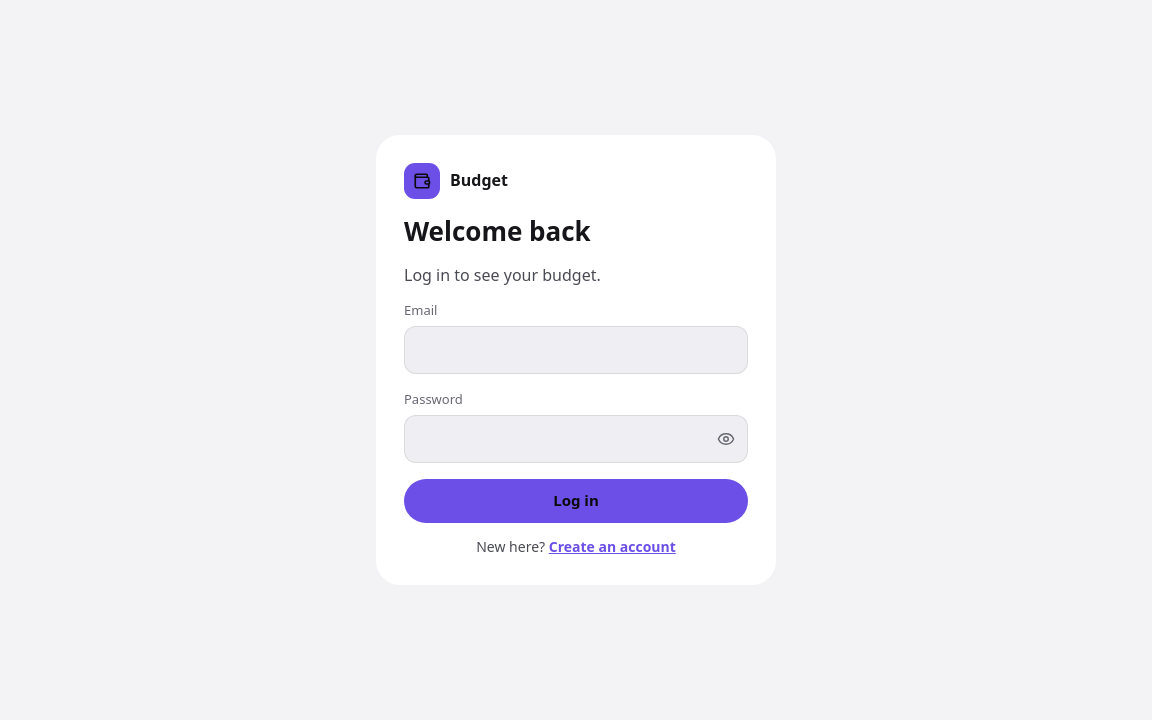
Test: logging in sends the email and password, then opens the page you wanted
The width and height of the screenshot is (1152, 720).
Expected: the heading "Welcome back" is shown, [404, 213, 591, 249]
In the field labelled "Email": (576, 350) [404, 326, 748, 374], type "  alice@example.com "
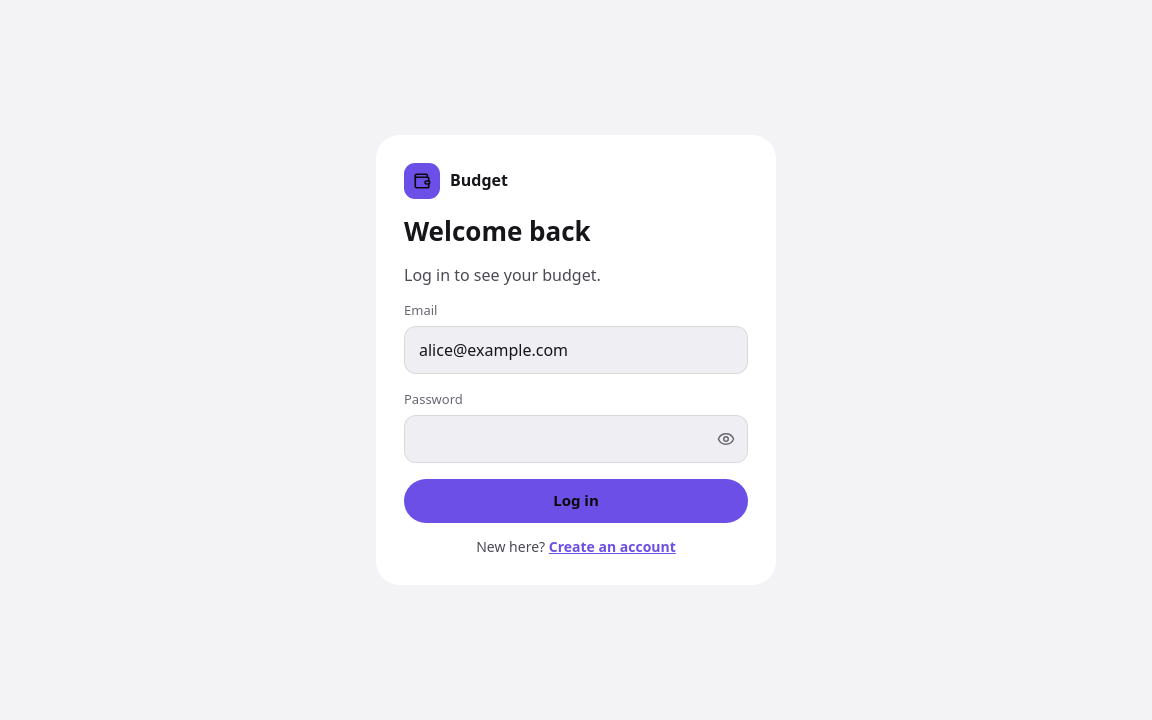
In the password field labelled "Password": (576, 439) [404, 415, 748, 463], type "correct horse battery"
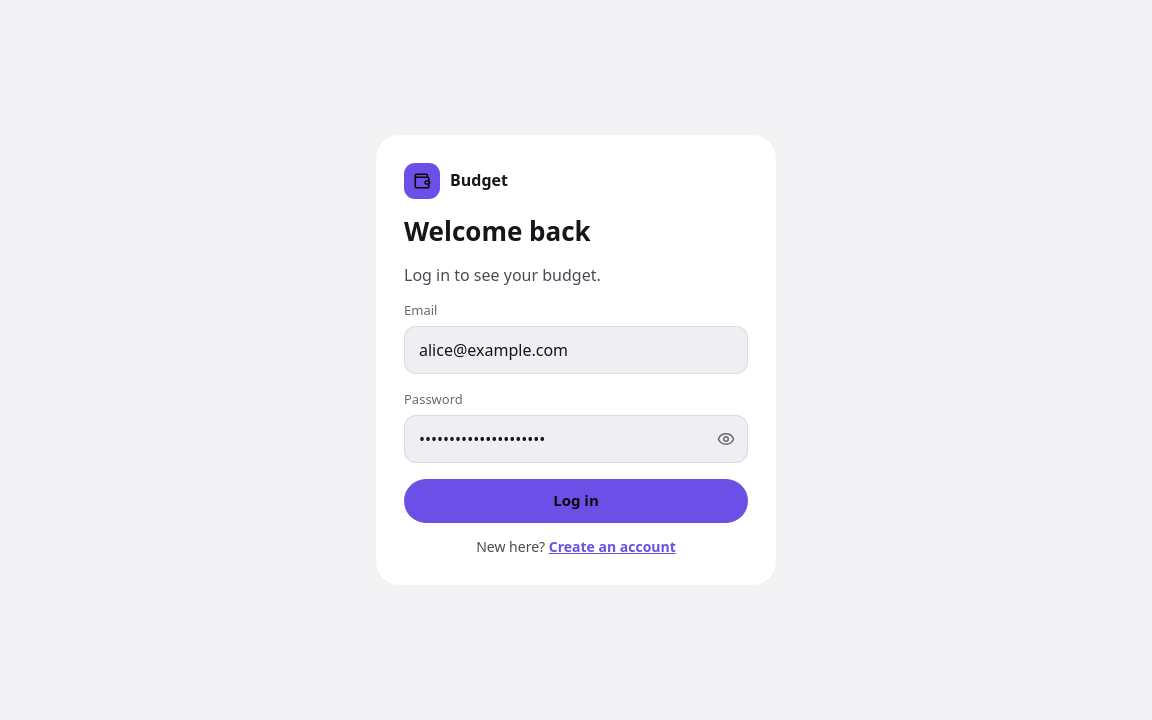
Click the button "Log in": (576, 501) [404, 479, 748, 523]
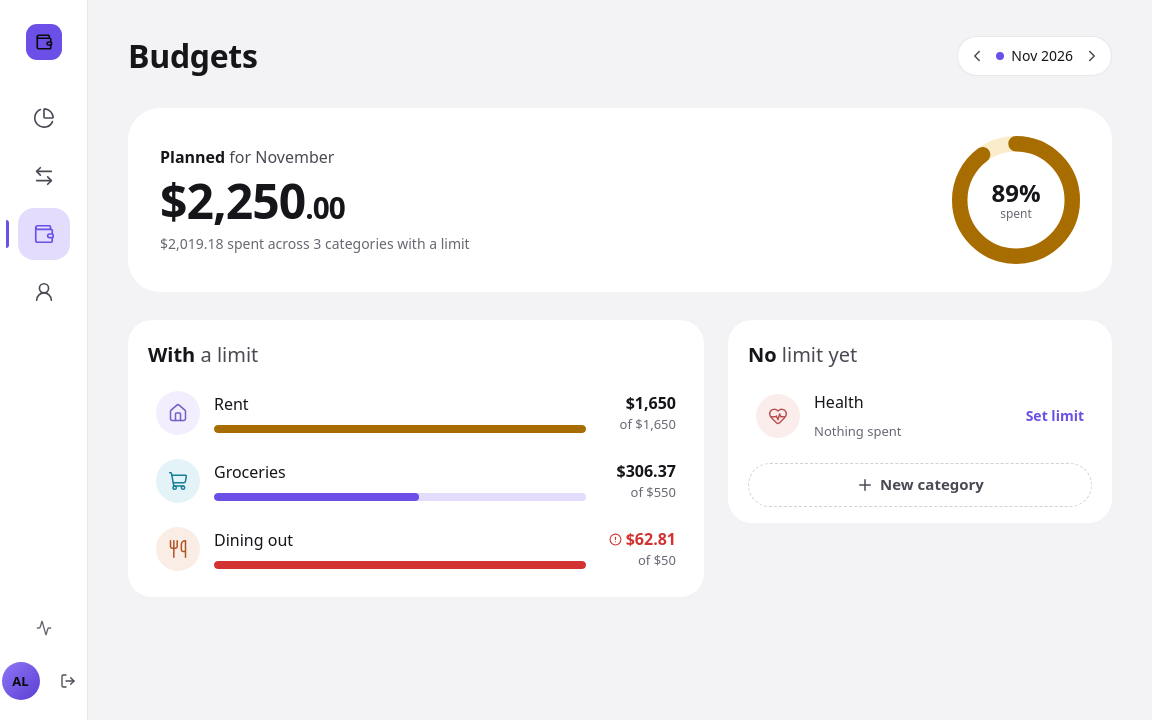
Expected: the heading "Budgets" is shown, [128, 33, 258, 79]
